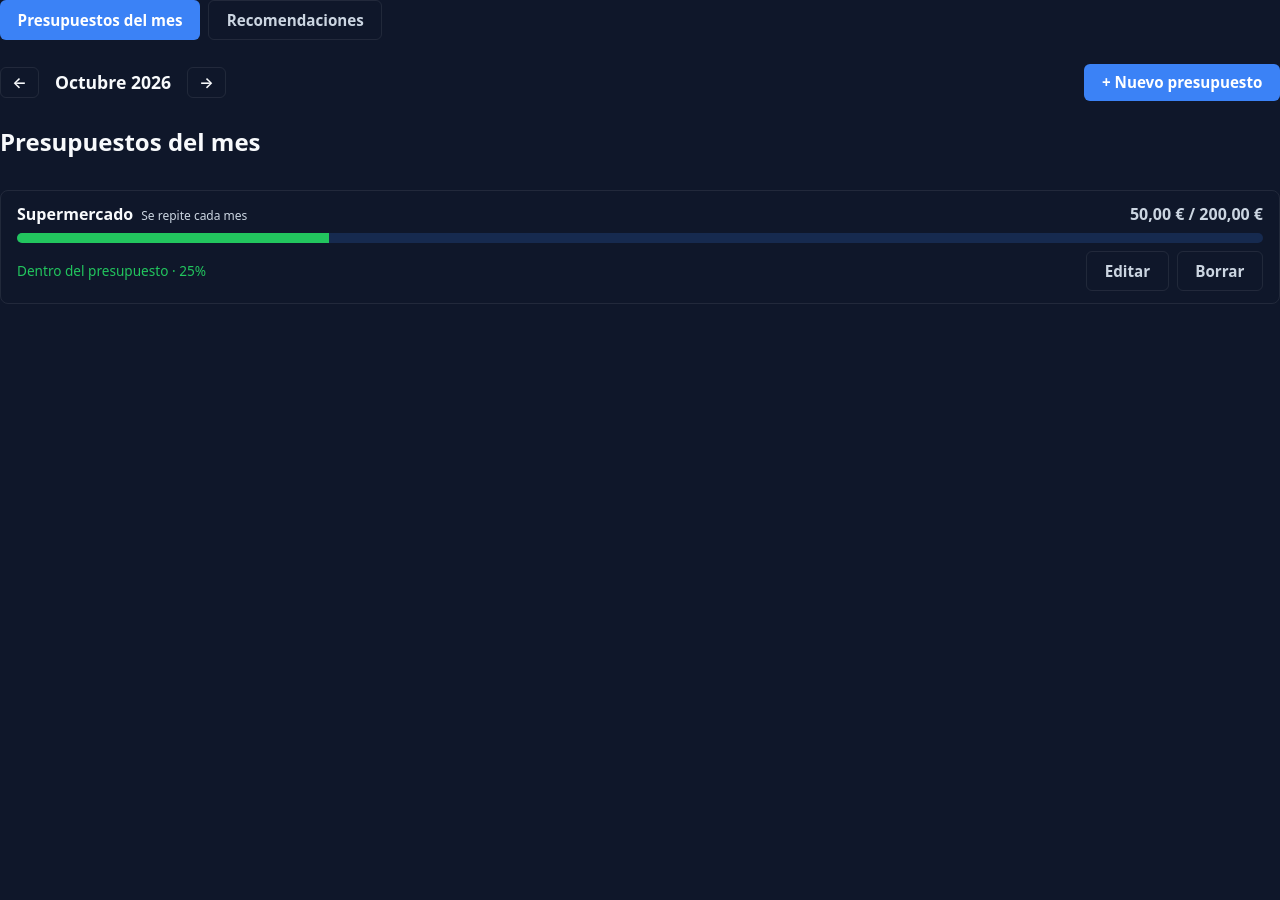
Test case: BudgetsPage › oculta el formulario y lo abre en un modal desde el botón cuando ya hay presupuestos
Check: the text "Supermercado" is shown, box [17,203,133,225]
Check: the field labelled "Tope mensual" is not shown
Click the button "+ Nuevo presupuesto" at (1182, 82), box [1084,64,1279,101]
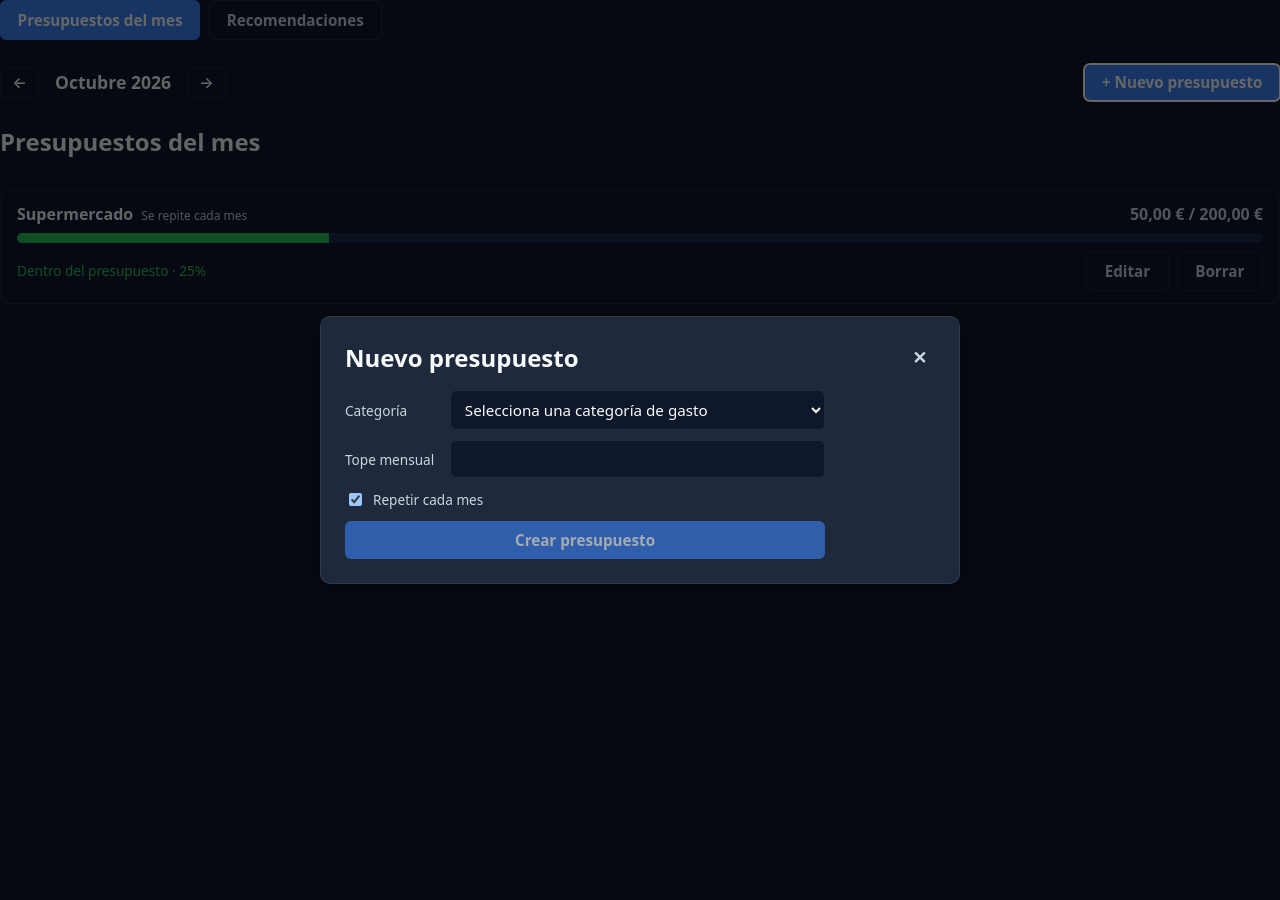
Check: the dialog "Nuevo presupuesto" is shown, box [320,316,960,584]
